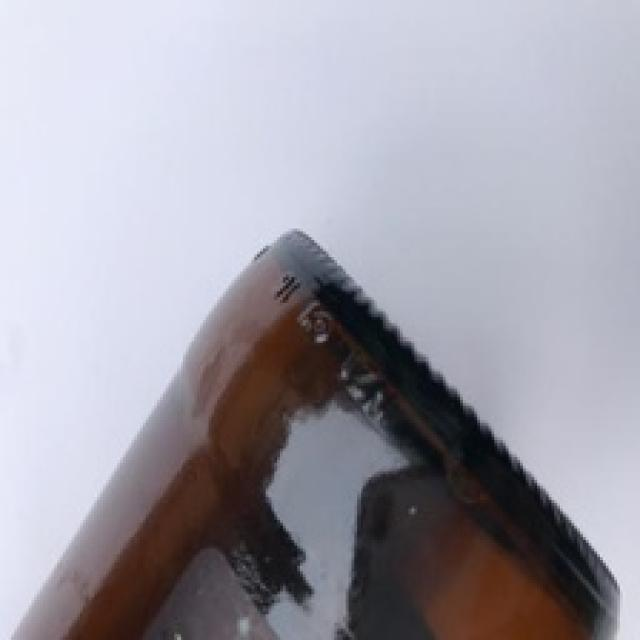Glass: (0, 226, 624, 639)
